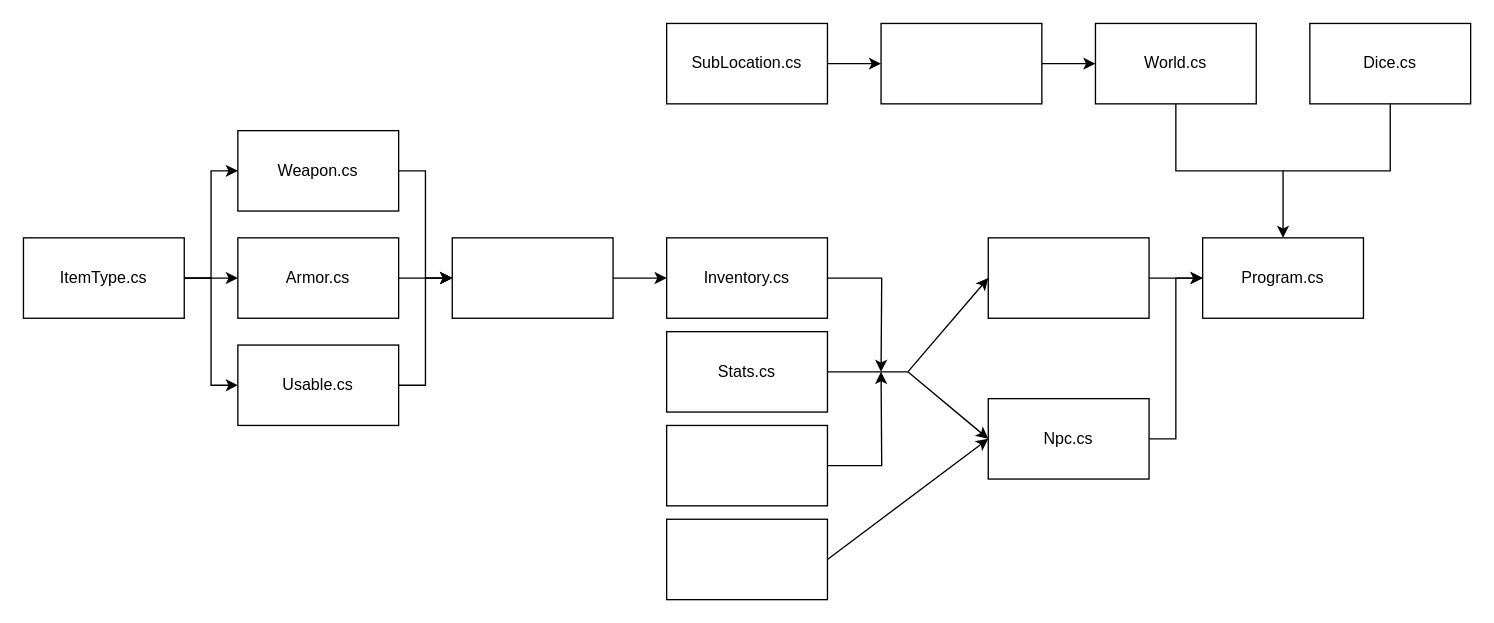
The diagram is 1494 pixels wide and 623 high, and some of its shapes have lost their labels. Here are the shapes that lost their labels. From the top down, the centre of each, then its label:
[961,63]: Location.cs
[532,277]: Items (Weapon/Usable/Armor)
[1068,277]: Player.cs
[746,465]: Quest.cs
[746,559]: Dialogue.cs
